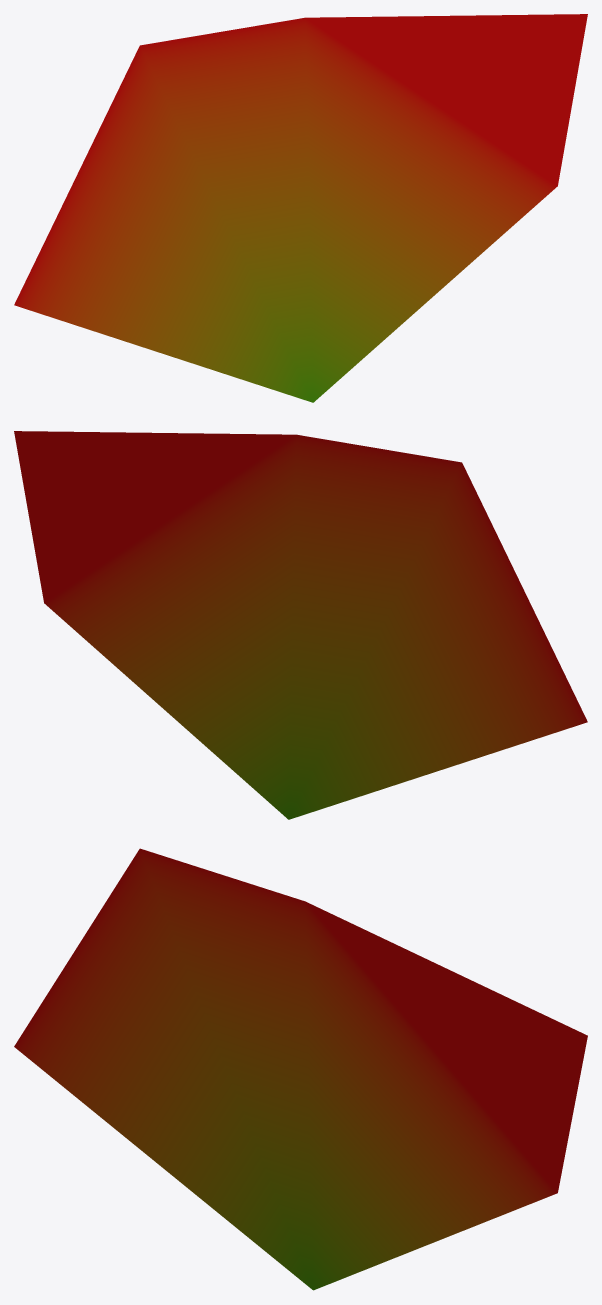
Rendered from Pink Cordyline_LOD3_Var2_sfhhN.fbx.
3 renders of one model, top to bottom at view 1: azimuth 30°, elevation 25°; view 2: azimuth 150°, elevation 25°; view 3: azimuth 330°, elevation 25°, orthographic.
Visible parts, largest first — view 1: _dab4_Var2_LOD3; view 2: _dab4_Var2_LOD3; view 3: _dab4_Var2_LOD3.
Part boxes in pixels (left/top/right/bottom): _dab4_Var2_LOD3: left=14, top=14, right=587, bottom=402; _dab4_Var2_LOD3: left=14, top=431, right=587, bottom=819; _dab4_Var2_LOD3: left=14, top=848, right=587, bottom=1290.
Size of the model in its own units: 107 by 71.19 by 1.72e-05.
